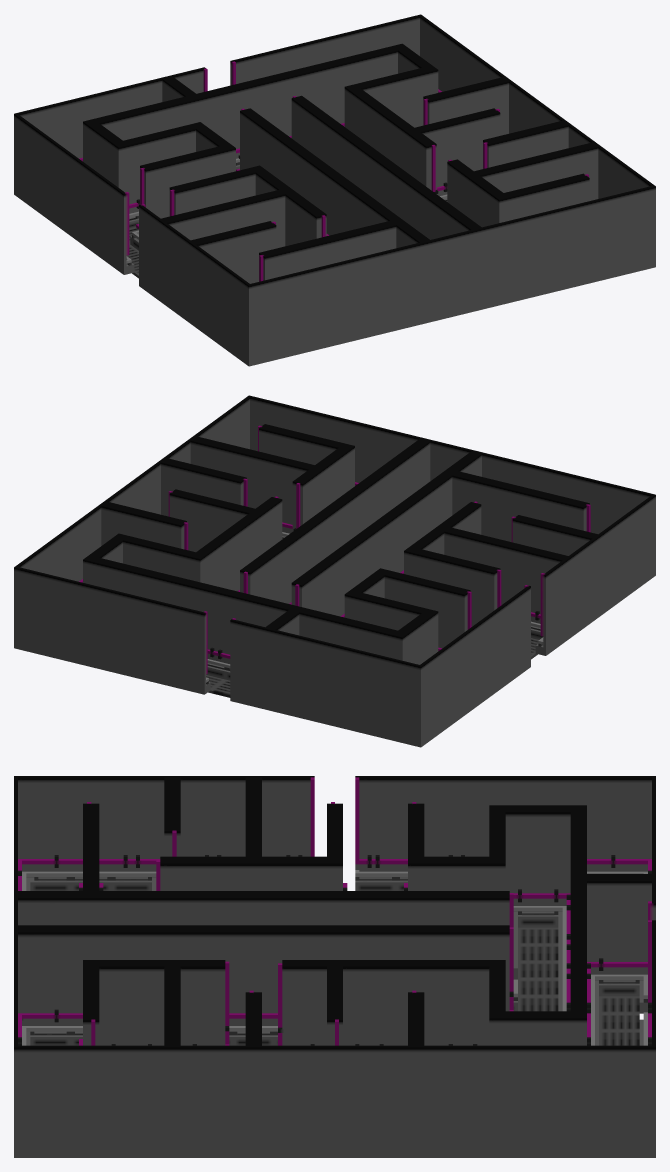
Rendered from Level03pt4.fbx.
The picture shows the model from 3 angles, top to bottom: view 1: azimuth 30°, elevation 25°; view 2: azimuth 150°, elevation 25°; view 3: azimuth 270°, elevation 25°; orthographic projection. The views are drawn at different scales.
Parts seen in each view (by area): view 1: Union; view 2: Union; view 3: Union.
Part boxes in pixels (box(x1,y1,x2,y2)): Union: box(14, 14, 655, 366); Union: box(14, 395, 655, 747); Union: box(14, 776, 655, 1157).
Bounding box in the file's own units: 158 × 31 × 158.
